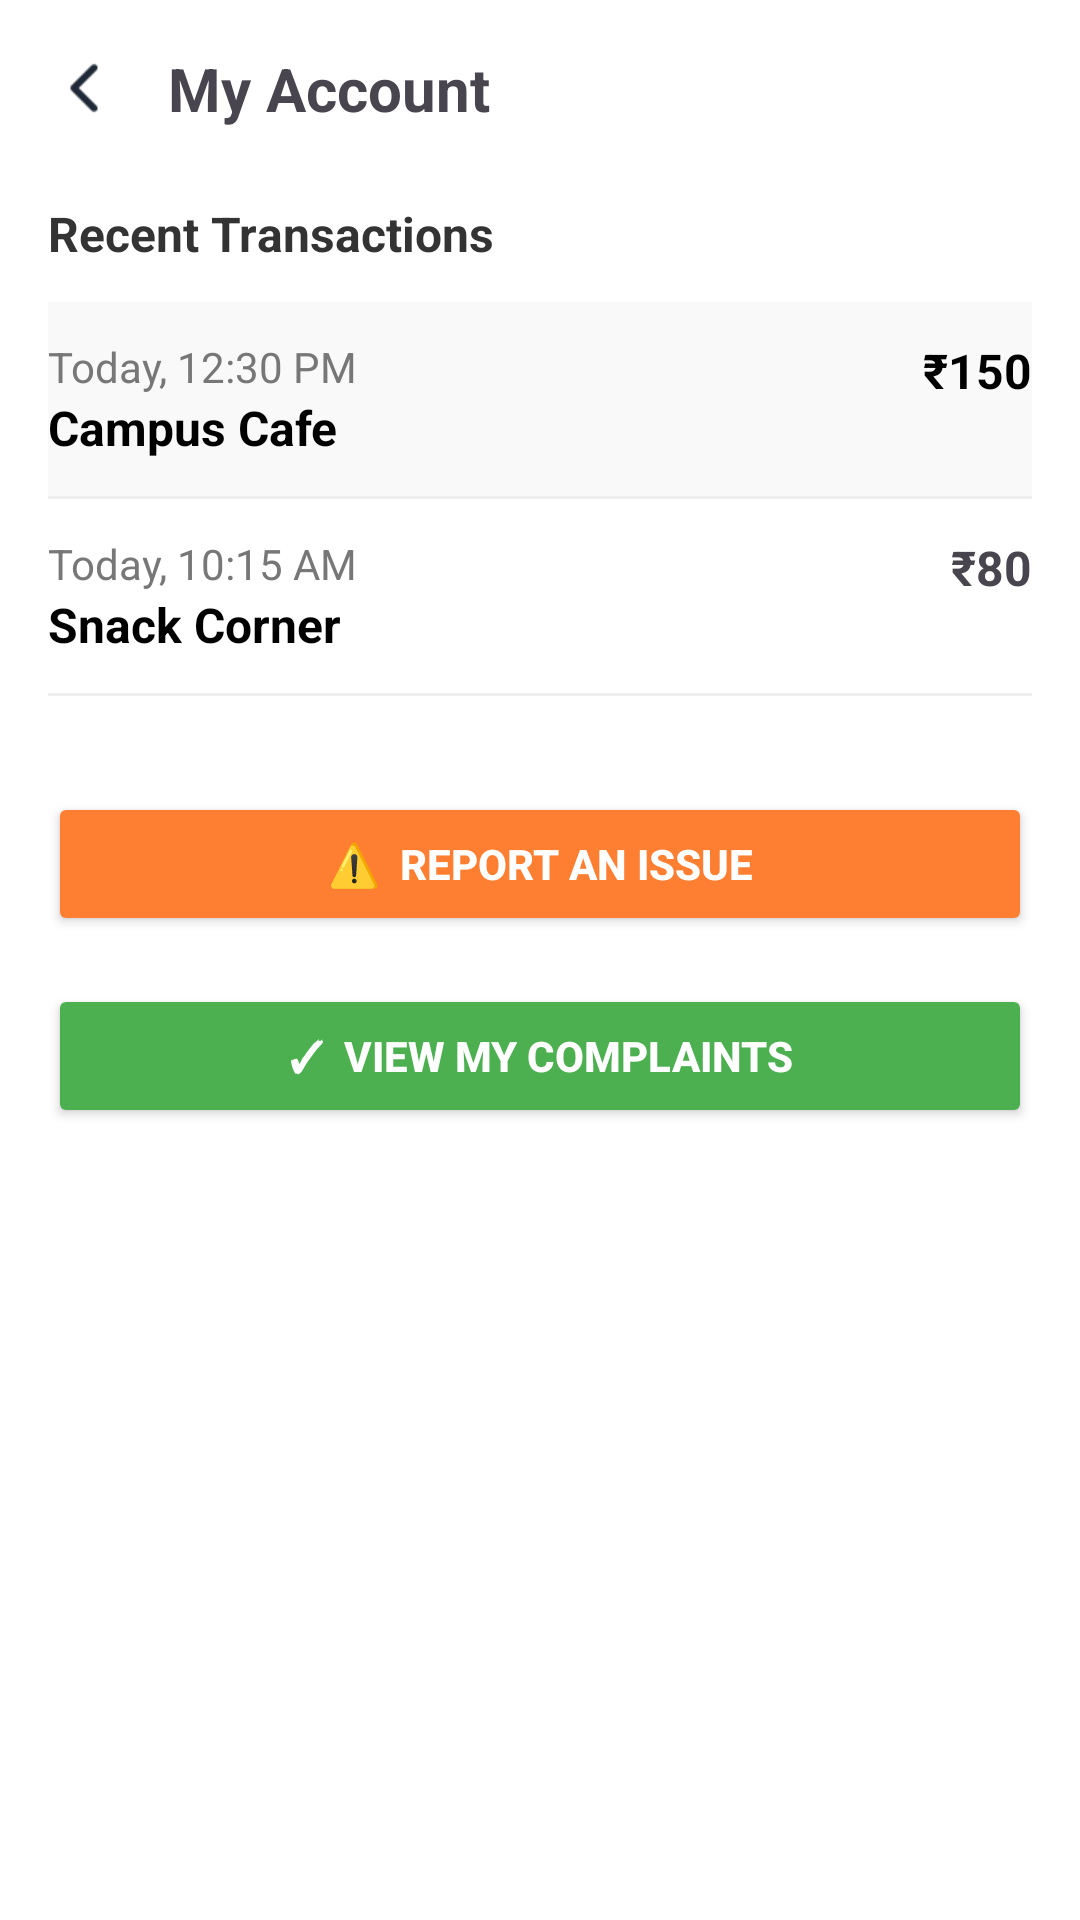

Point at icon controls on the screen. Image size 1080*1920, points as [x,y].
Back: [84,88]
